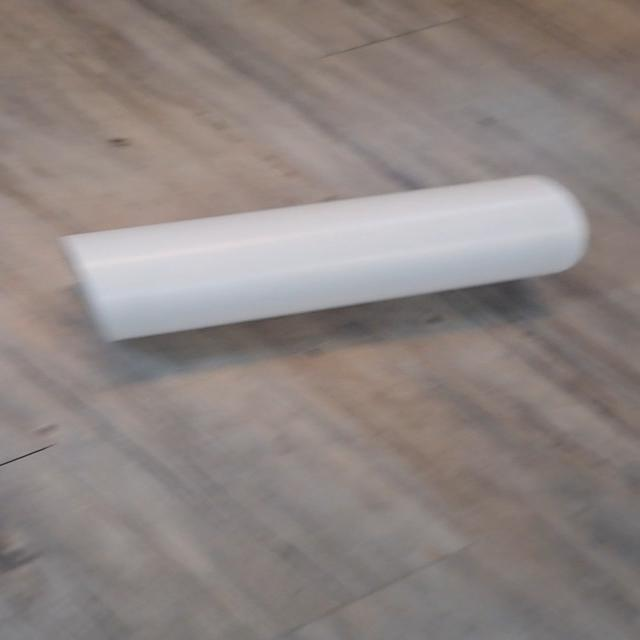CORAL: (39, 155, 611, 369)
